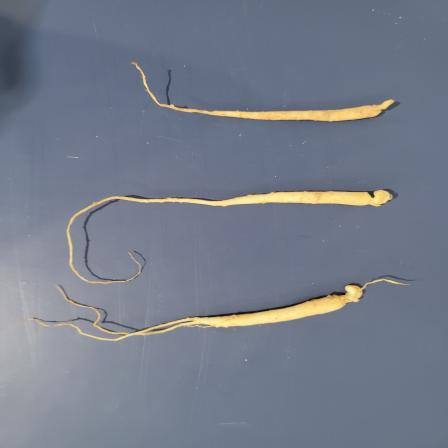Ginseng: (66, 186, 400, 272), (28, 281, 373, 344), (130, 58, 398, 122)
head: (340, 283, 363, 311), (366, 188, 395, 208), (373, 97, 397, 118)
